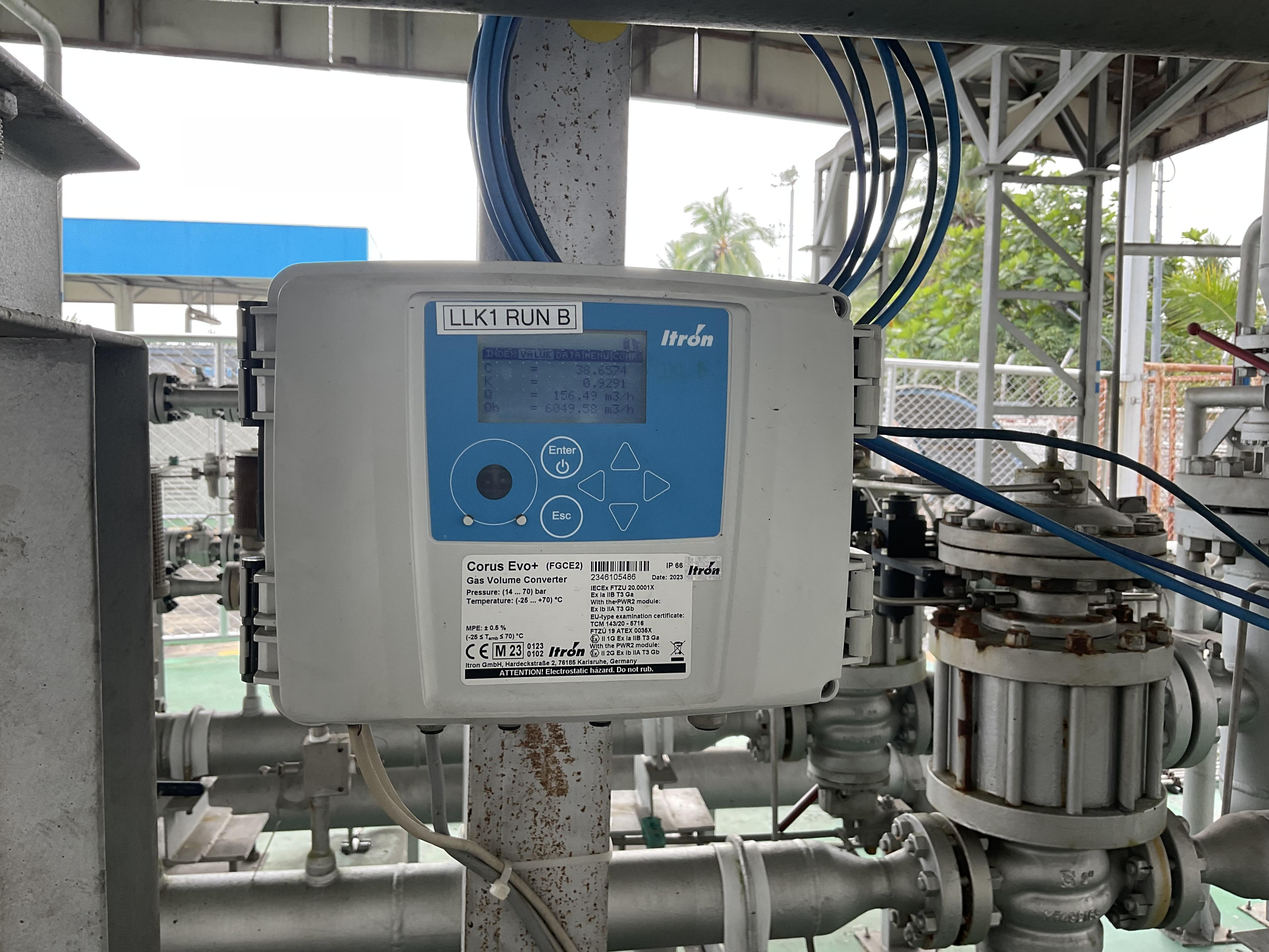digital_screen: (477, 329, 647, 423)
